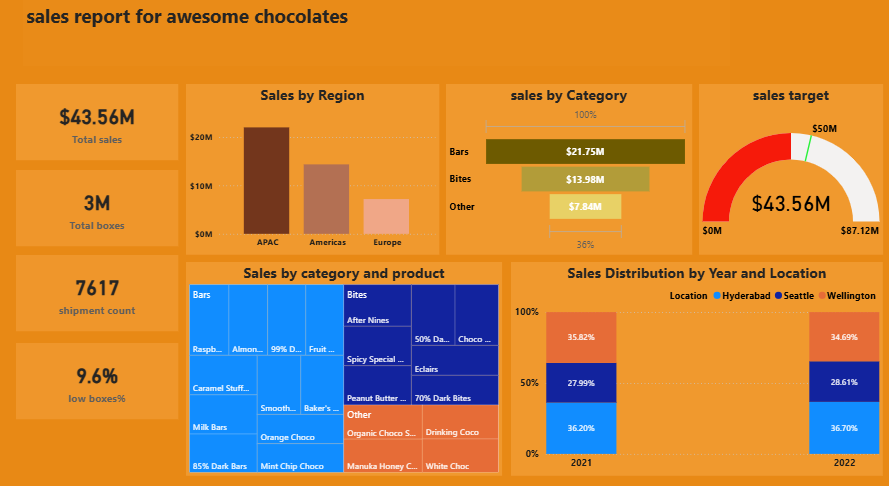

This screenshot's page, from the dashboard's own definition file:
{"tool":"powerbi","page":{"name":"Page 2","canvas":[1280,720],"ordinal":1},"visuals":[{"type":"card","fields":{"Values":["measures (2).Total sales"]},"box":[40.6,133.6,230,108.2],"z":0},{"type":"card","fields":{"Values":["measures (2).low boxes%"]},"box":[40.6,500.5,230,108.2],"z":1000},{"type":"card","fields":{"Values":["measures (2).shipment count"]},"box":[40.6,375.4,230,108.2],"z":2000},{"type":"card","fields":{"Values":["measures (2).Total boxes"]},"box":[40.6,255.3,230,108.2],"z":3000},{"type":"textbox","box":[51,12.8,1002,95],"z":4000},{"type":"clusteredColumnChart","title":"Sales by Region","fields":{"Category":["geo.Region"],"Y":["measures (2).Total sales"]},"box":[282,133.2,358.6,242.4],"z":5000},{"type":"treemap","title":"Sales by category and product","fields":{"Group":["products.Category"],"Details":["products.Product"],"Values":["measures (2).Total sales"]},"box":[282,385.5,447.9,303.3],"z":6000},{"type":"funnel","title":"sales by Category","fields":{"Category":["products.Category"],"Y":["measures (2).Total sales"]},"box":[650.6,133.2,348.7,242.4],"z":7000},{"type":"gauge","title":"sales target","fields":{"Y":["measures (2).Total sales"],"TargetValue":["measures (2).sales target"]},"box":[1009.1,133.2,260.8,242.4],"z":8000},{"type":"hundredPercentStackedColumnChart","title":"Sales Distribution by  Year and Location","fields":{"Series":["people.Location"],"Category":["sales.SaleDate.Variation.Date Hierarchy.Year"],"Y":["measures (2).Total sales"]},"box":[742.7,385.5,527.2,303.3],"z":9000}]}

Visuals, with their boxes in screenshot pixels (x1, y1, x2, y2), scaled from the page's 1280x720 canvas onto the 889x486 screenshot:
card - measures (2).Total sales: box(28, 90, 188, 163)
card - measures (2).low boxes%: box(28, 338, 188, 411)
card - measures (2).shipment count: box(28, 253, 188, 326)
card - measures (2).Total boxes: box(28, 172, 188, 245)
textbox: box(35, 9, 731, 73)
"Sales by Region" clusteredColumnChart: box(196, 90, 445, 254)
"Sales by category and product" treemap: box(196, 260, 507, 465)
"sales by Category" funnel: box(452, 90, 694, 254)
"sales target" gauge: box(701, 90, 882, 254)
"Sales Distribution by  Year and Location" hundredPercentStackedColumnChart: box(516, 260, 882, 465)
